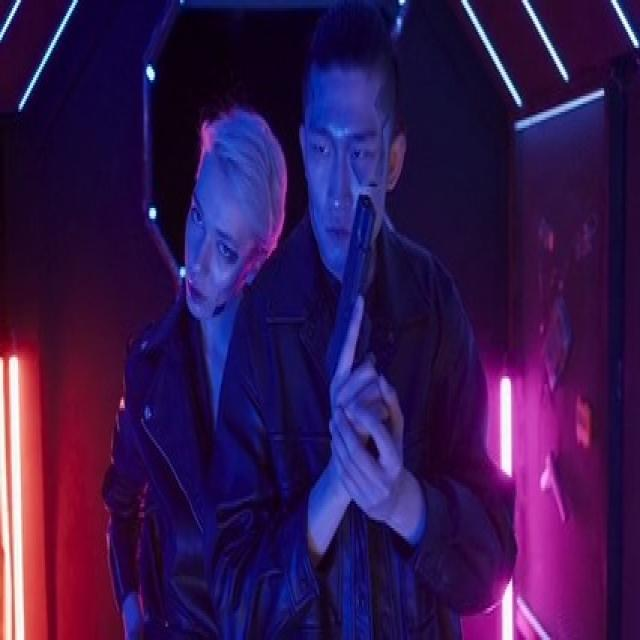Gun_Holder: (319, 197, 407, 492)
Jacket_Wearer: (216, 205, 522, 640), (110, 296, 213, 640)
Person: (221, 0, 521, 640), (102, 104, 292, 640)
